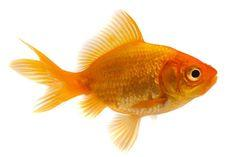goldfish: (36, 25, 225, 138)
